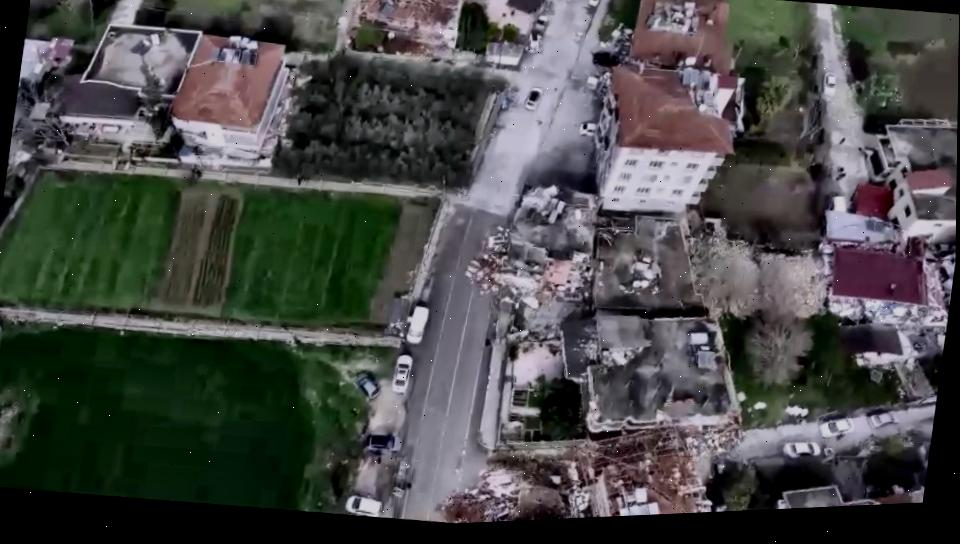kapali: (450, 428, 775, 494)
